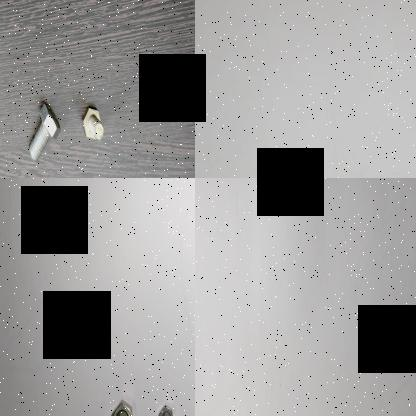Bolts: (24, 102, 60, 165), (78, 98, 104, 146)
NUTS: (109, 397, 135, 416), (157, 401, 175, 416)
